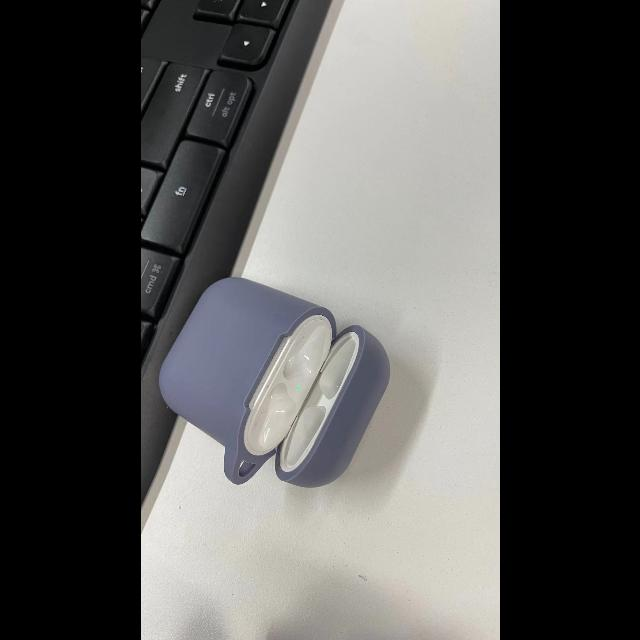airpods: (156, 275, 392, 490)
